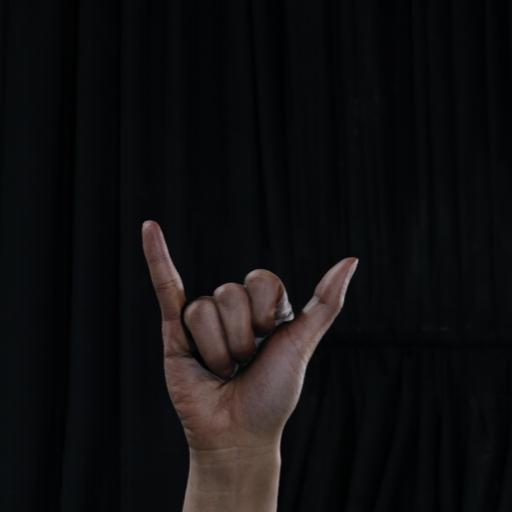Y: (131, 209, 361, 510)
